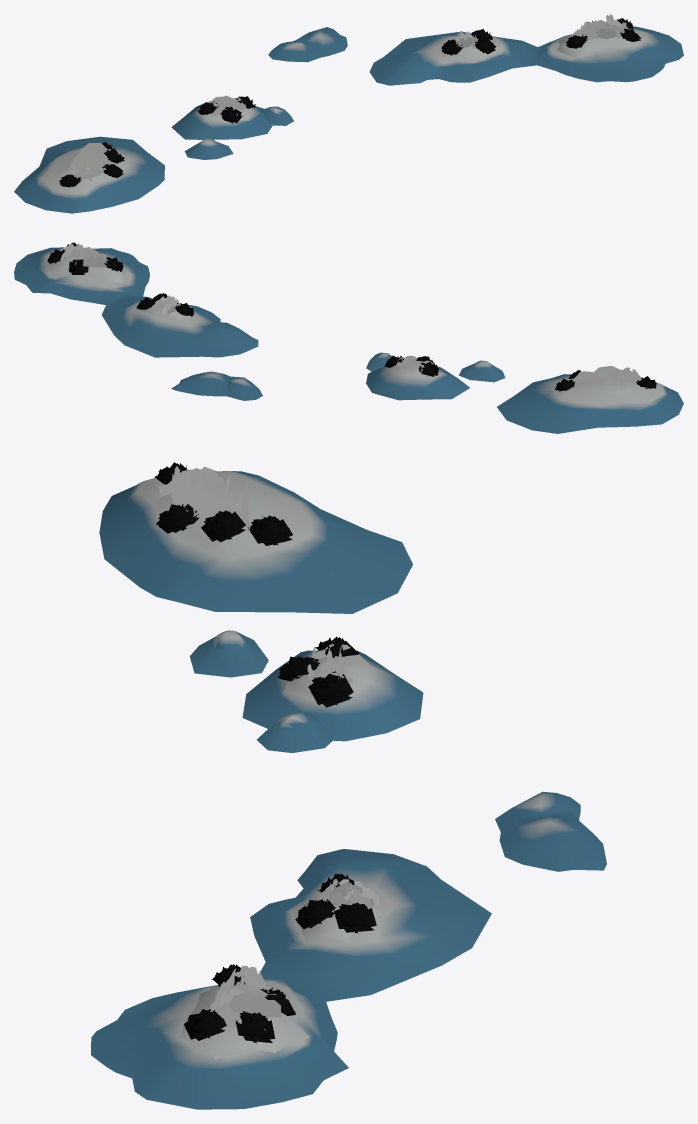
The picture shows the model from 3 angles, top to bottom: view 1: azimuth 30°, elevation 25°; view 2: azimuth 150°, elevation 25°; view 3: azimuth 270°, elevation 25°; orthographic projection. The views are drawn at different scales.
Visible parts, largest first — view 1: G:\FFXIV-MapTools\exports\y6t1\bg\ex5\02_ykt_y6\twn\y6t1\bgp (×5); view 2: G:\FFXIV-MapTools\exports\y6t1\bg\ex5\02_ykt_y6\twn\y6t1\bgp (×5); view 3: G:\FFXIV-MapTools\exports\y6t1\bg\ex5\02_ykt_y6\twn\y6t1\bgp (×5).
Part boxes in pixels (x1,y1,x2,y2): G:\FFXIV-MapTools\exports\y6t1\bg\ex5\02_ykt_y6\twn\y6t1\bgp (×5): [14, 14, 683, 213]; G:\FFXIV-MapTools\exports\y6t1\bg\ex5\02_ykt_y6\twn\y6t1\bgp (×5): [14, 242, 683, 433]; G:\FFXIV-MapTools\exports\y6t1\bg\ex5\02_ykt_y6\twn\y6t1\bgp (×5): [91, 462, 606, 1109].
Size of the model in its own units: 810 by 38.92 by 278.
